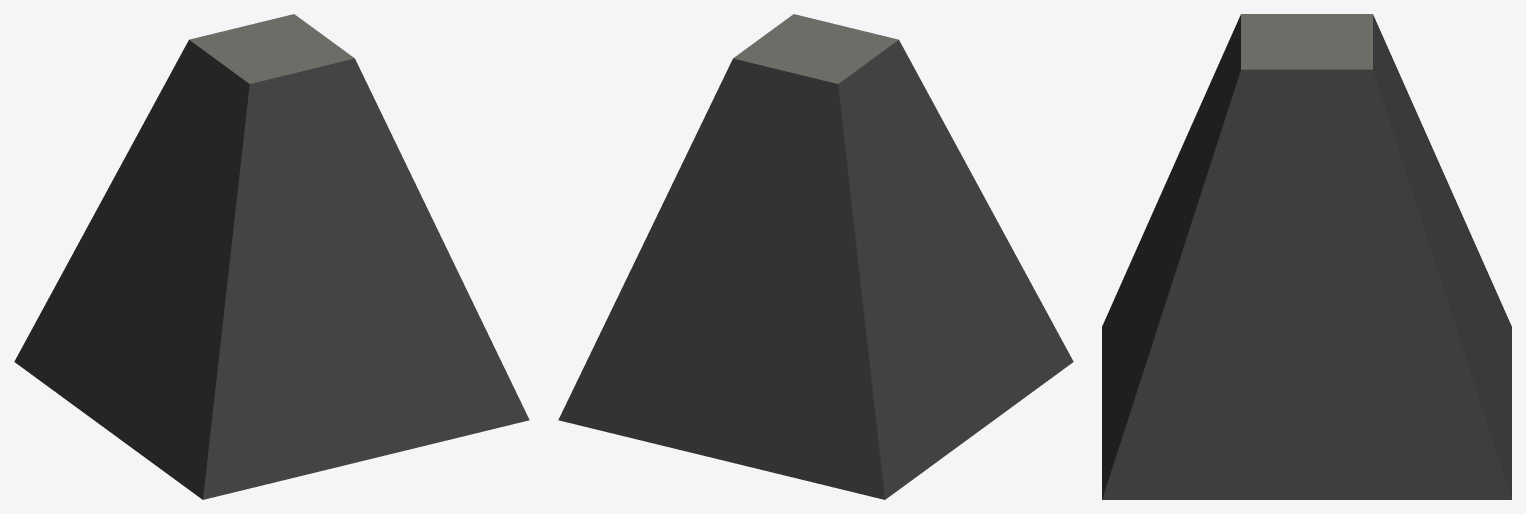
File: Pillor.FBX
The picture shows the model from 3 angles, left to right: view 1: azimuth 30°, elevation 25°; view 2: azimuth 150°, elevation 25°; view 3: azimuth 270°, elevation 25°; orthographic projection. The views are drawn at different scales.
Parts seen in each view (by area): view 1: pillor; view 2: pillor; view 3: pillor.
Part boxes in pixels (bbox=[...]): pillor: bbox=[14, 14, 529, 499]; pillor: bbox=[558, 14, 1073, 499]; pillor: bbox=[1102, 14, 1511, 499].
Bounding box in the file's own units: 0.5 × 0.5 × 0.5.
1 material, 1 textured.
